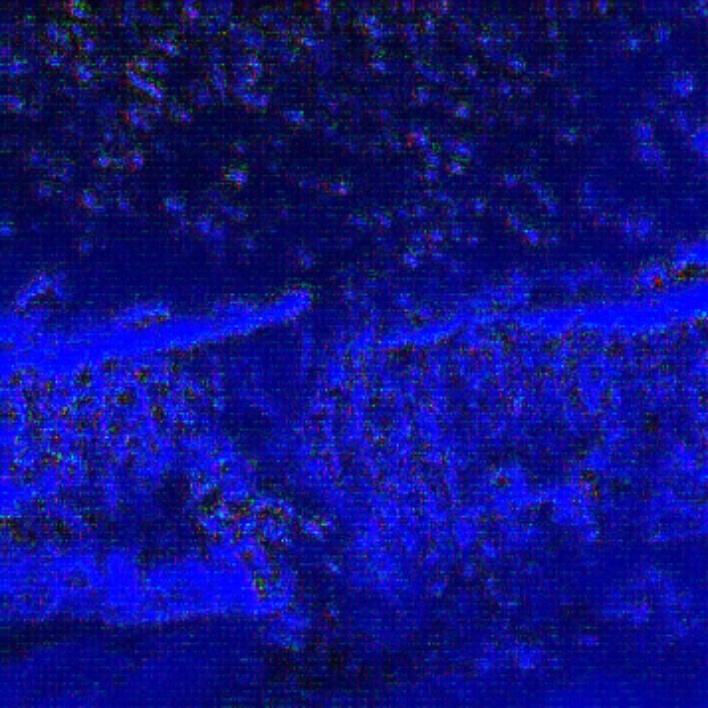rip_current: (182, 350, 430, 573)
